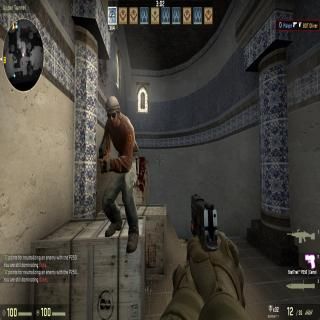T-Body: (97, 96, 141, 255)
T-Head: (106, 92, 122, 130)
